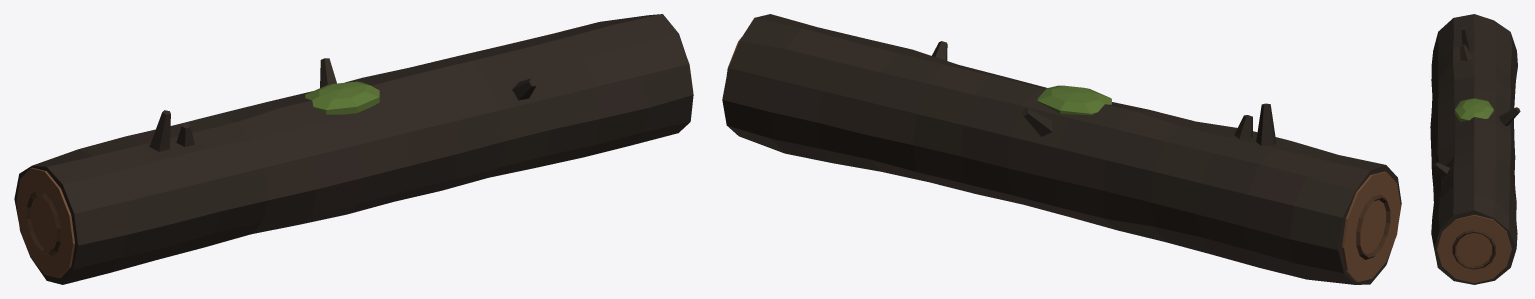
File: log3.glb
The picture shows the model from 3 angles, left to right: view 1: azimuth 30°, elevation 25°; view 2: azimuth 150°, elevation 25°; view 3: azimuth 270°, elevation 25°; orthographic projection. The views are drawn at different scales.
Visible parts, largest first — view 1: Log; view 2: Log; view 3: Log.
Boxes of the visible parts, <box> form: Log: <box>14,14,693,284</box>; Log: <box>722,14,1401,284</box>; Log: <box>1430,14,1520,284</box>.
Bounding box in the file's own units: 3.05 × 0.6915 × 0.5771.
